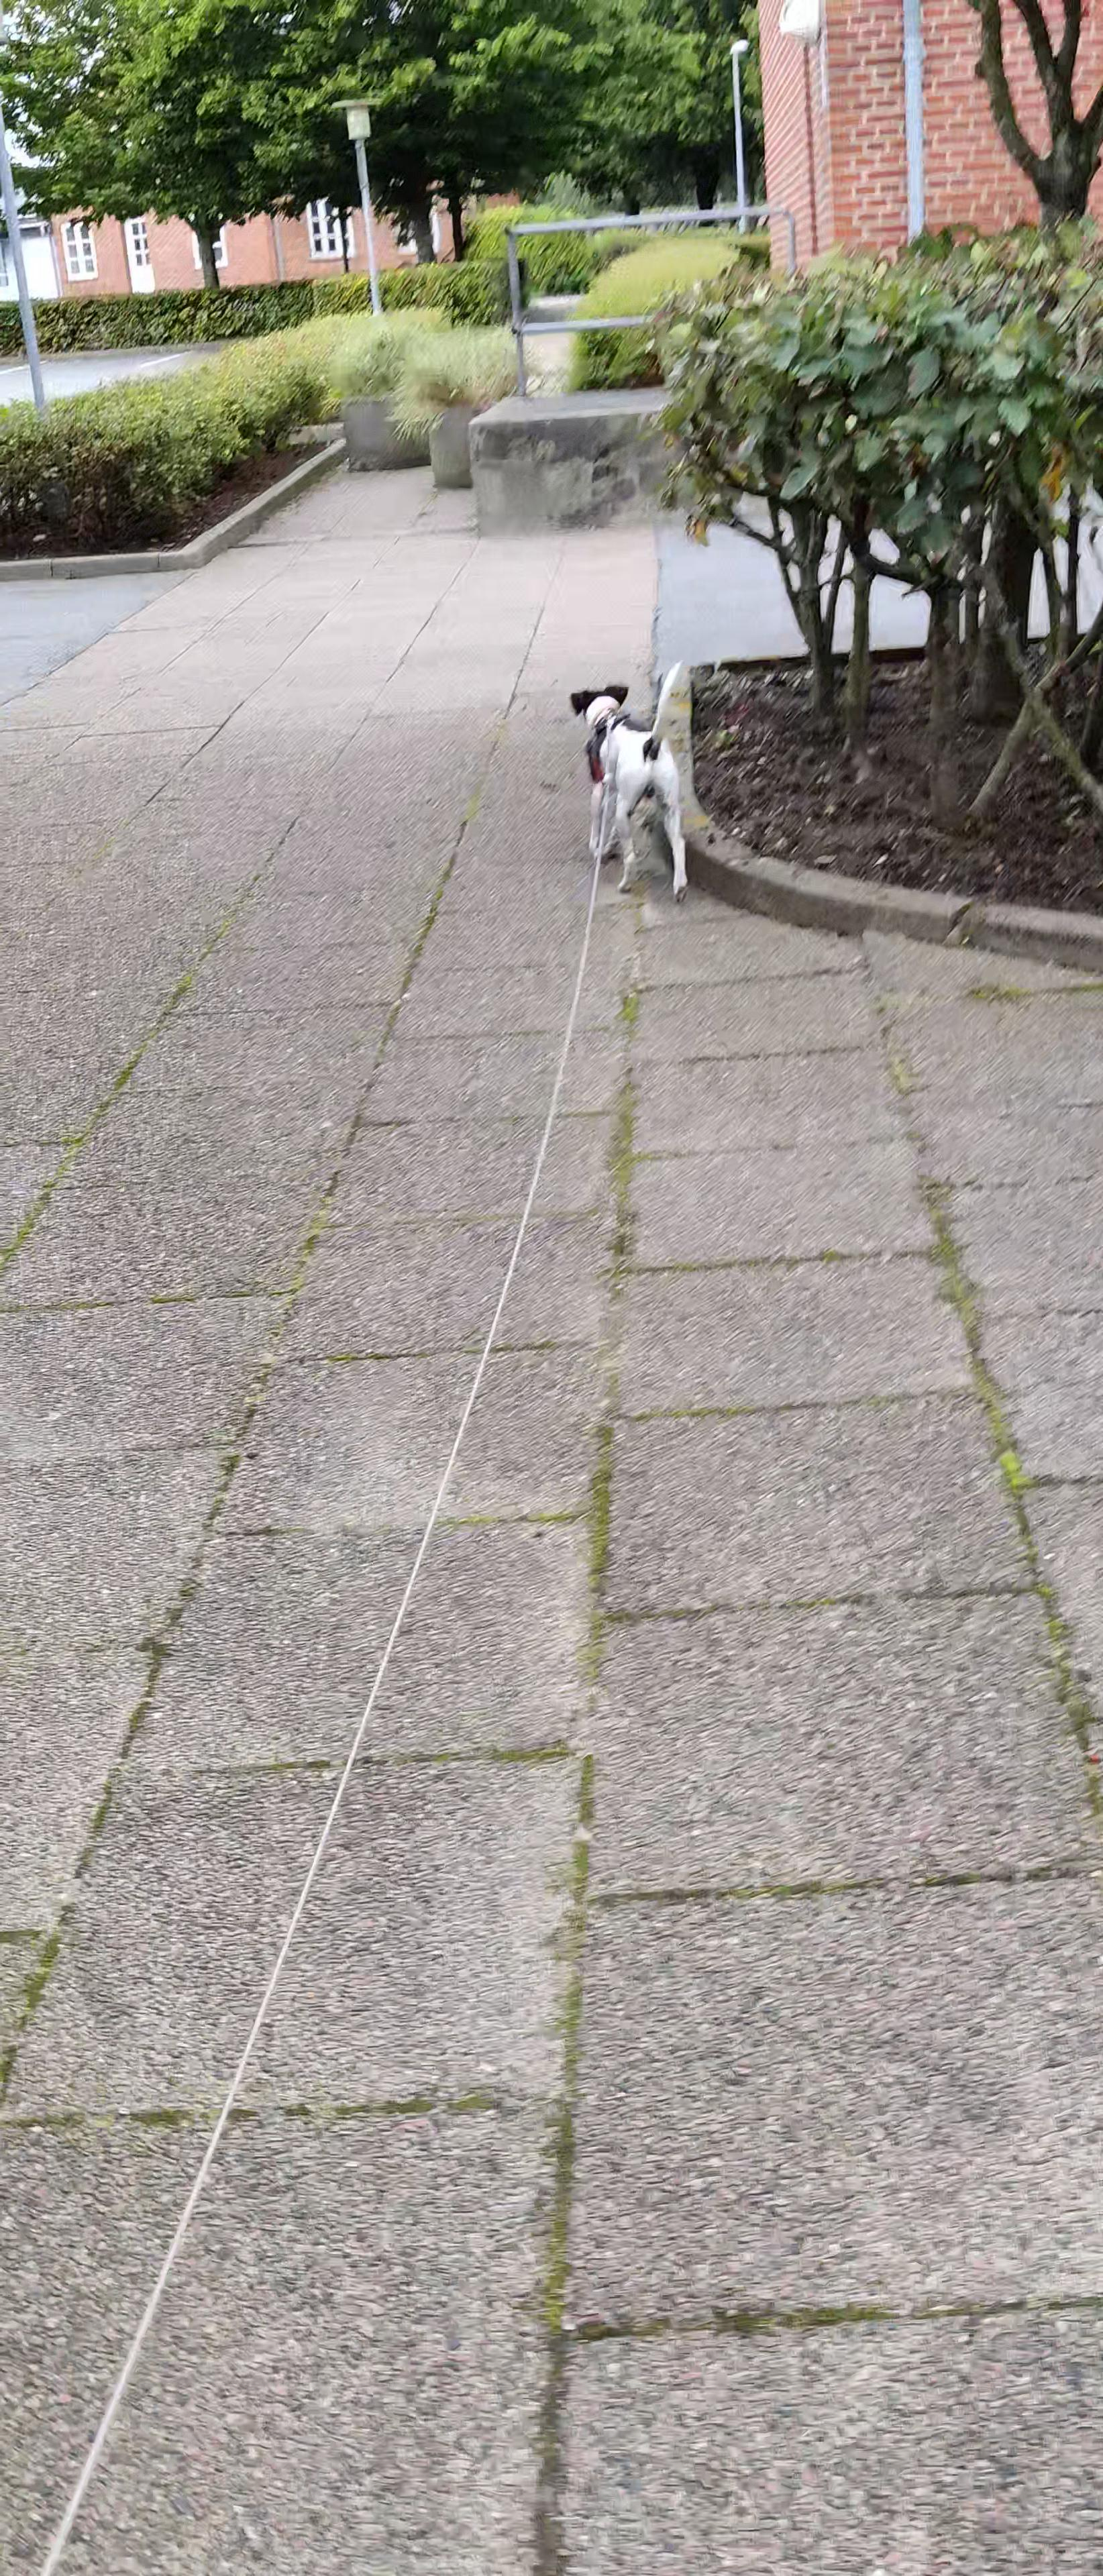Dog: (564, 659, 694, 907)
